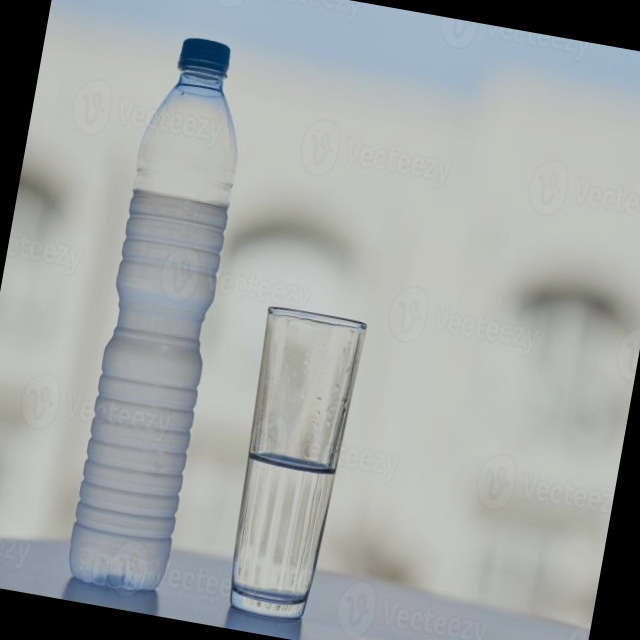Plastic-bottle: (104, 48, 223, 630)
